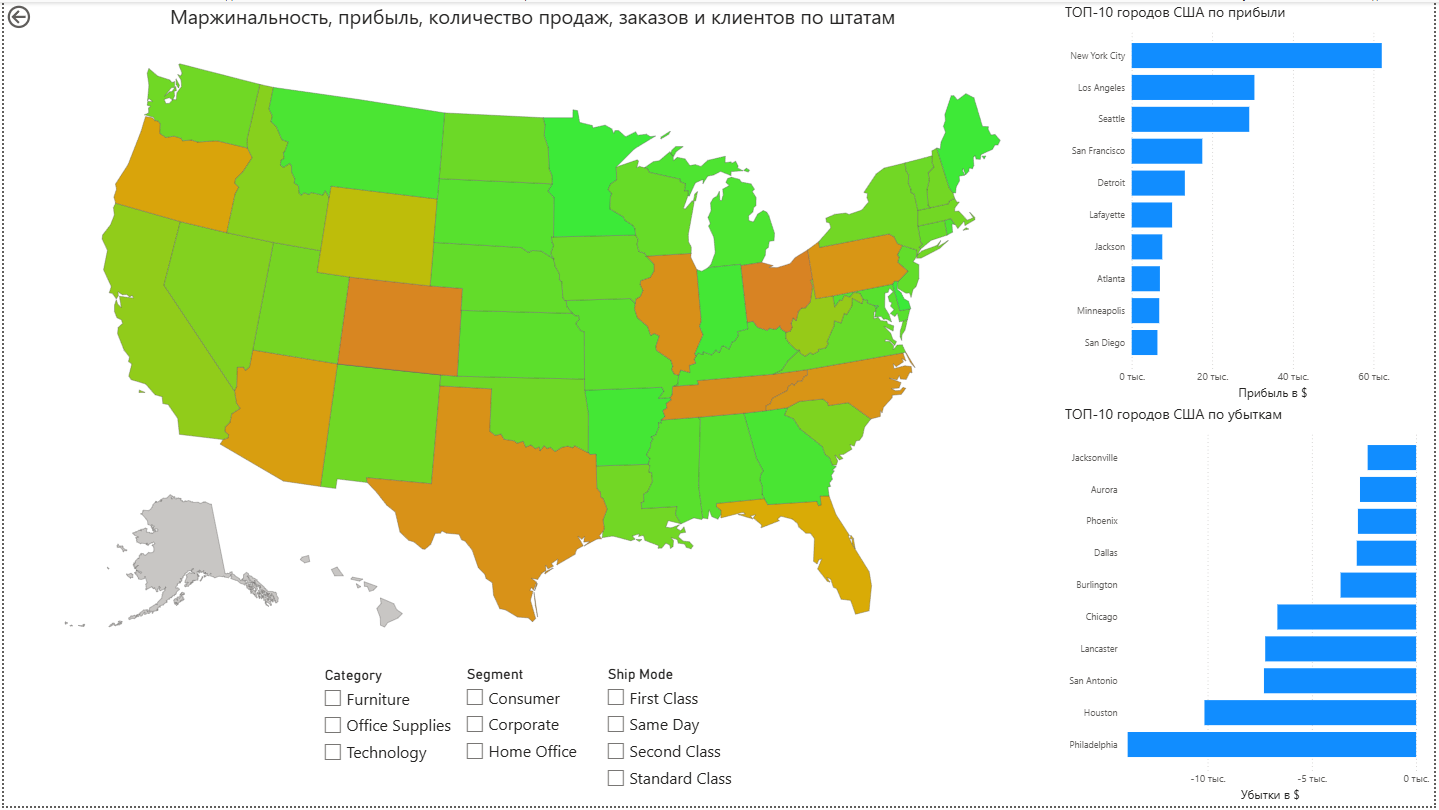

This screenshot's page, from the dashboard's own definition file:
{"tool":"powerbi","page":{"name":"Страница 2","canvas":[1920,1080],"ordinal":1},"visuals":[{"type":"shapeMap","title":"Маржинальность, прибыль, количество продаж, заказов и клиентов по штатам","fields":{"Value":["data_processed.Profit Margin"],"Category":["data_processed.State"]},"box":[0,0,1420,886.7],"z":0},{"type":"slicer","fields":{"Values":["data_processed.Category"]},"box":[418.3,888.3,190,191.7],"z":1000},{"type":"slicer","fields":{"Values":["data_processed.Segment"]},"box":[608.3,886.7,190,153.3],"z":2000},{"type":"slicer","fields":{"Values":["data_processed.Ship Mode"]},"box":[798.3,886.7,196.7,193.3],"z":3000},{"type":"clusteredBarChart","title":"ТОП-10 городов США по прибыли","fields":{"Category":["data_processed.City"],"Y":["data_processed.Total Profit"]},"box":[1420,0,500,540],"z":4000},{"type":"actionButton","box":[0,0,100,40],"z":5000},{"type":"clusteredBarChart","title":"ТОП-10 городов США по убыткам","fields":{"Category":["data_processed.City"],"Y":["data_processed.Total Profit"]},"box":[1420,540,500,540],"z":6000}]}

Visuals, with their boxes in screenshot pixels (x1, y1, x2, y2), scaled from the page's 1920x1080 canvas onto the 1439x810 screenshot:
"Маржинальность, прибыль, количество продаж, заказов и клиентов по штатам" shapeMap: select_region(0, 0, 1064, 665)
slicer - data_processed.Category: select_region(314, 666, 456, 809)
slicer - data_processed.Segment: select_region(456, 665, 598, 780)
slicer - data_processed.Ship Mode: select_region(598, 665, 746, 809)
"ТОП-10 городов США по прибыли" clusteredBarChart: select_region(1064, 0, 1438, 405)
actionButton: select_region(0, 0, 75, 30)
"ТОП-10 городов США по убыткам" clusteredBarChart: select_region(1064, 405, 1438, 809)
